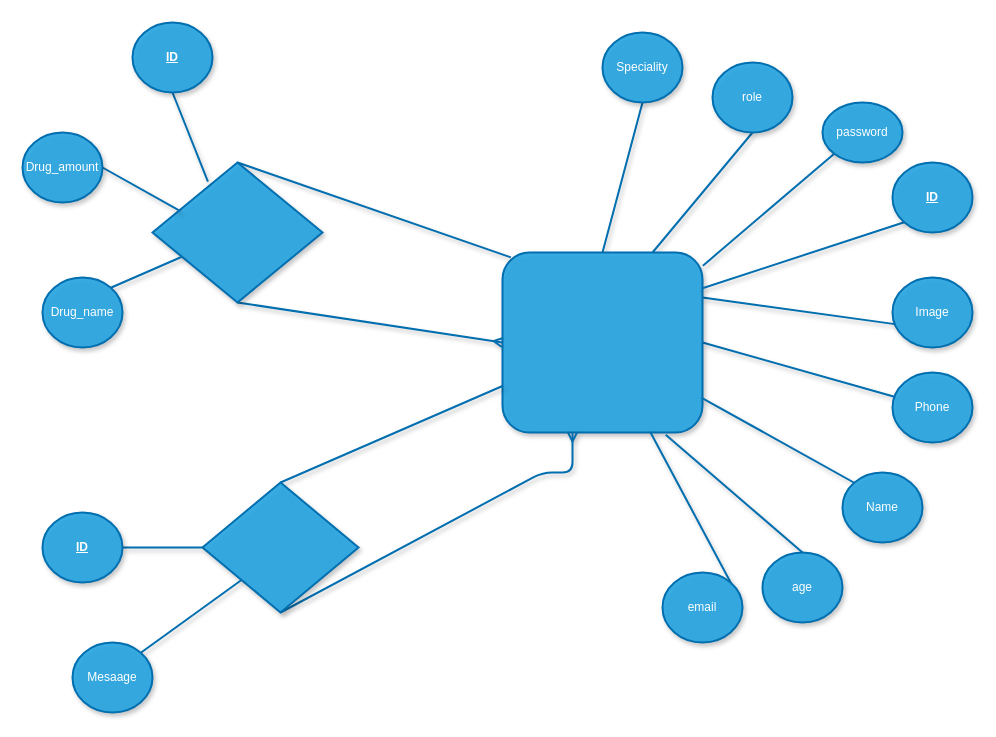
This 996x737 diagram has some shape labels left out. The centre of each missing label's shape, as x and y in pixels:
inquiries: the point at 281,548
prescription: the point at 238,233
User: the point at 603,343
